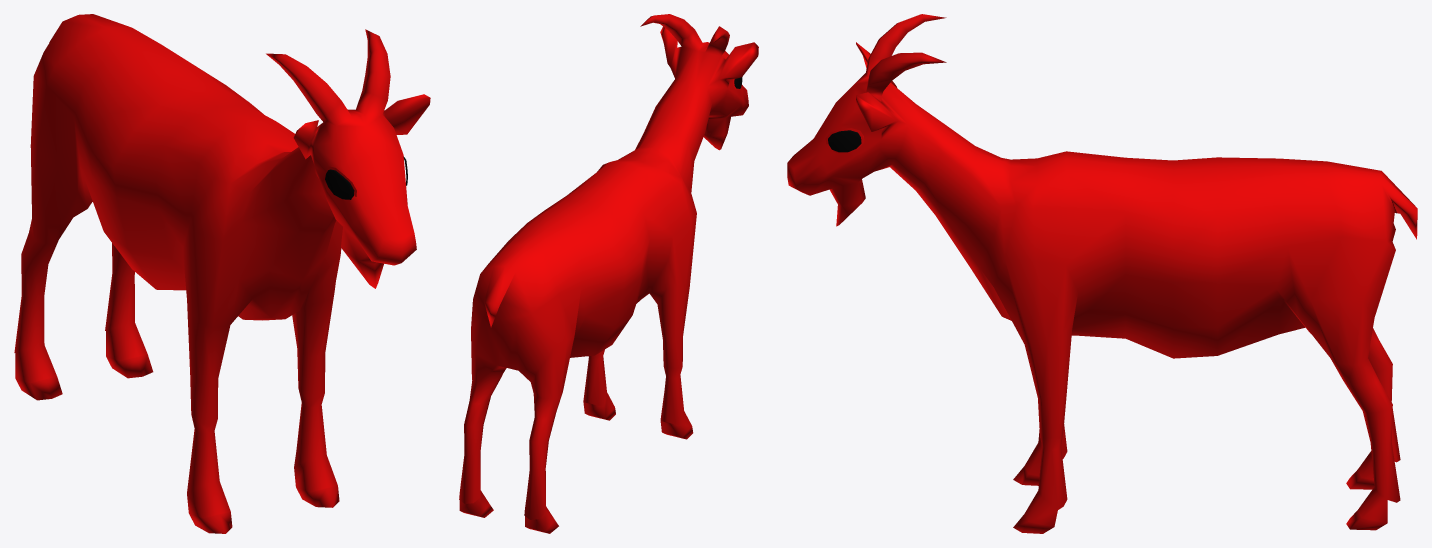
The model's file is Goat.glb.
3 views of the same model, side by side, from view 1: azimuth 30°, elevation 25°; view 2: azimuth 150°, elevation 25°; view 3: azimuth 270°, elevation 25° (orthographic). The views are drawn at different scales.
Parts seen in each view (by area): view 1: base_node_75; view 2: base_node_75; view 3: base_node_75.
Part boxes in pixels (<box>): base_node_75: <box>14,14,430,533</box>; base_node_75: <box>459,14,758,533</box>; base_node_75: <box>787,14,1417,533</box>.
Bounding box in the file's own units: 32.75 × 102 × 124.
